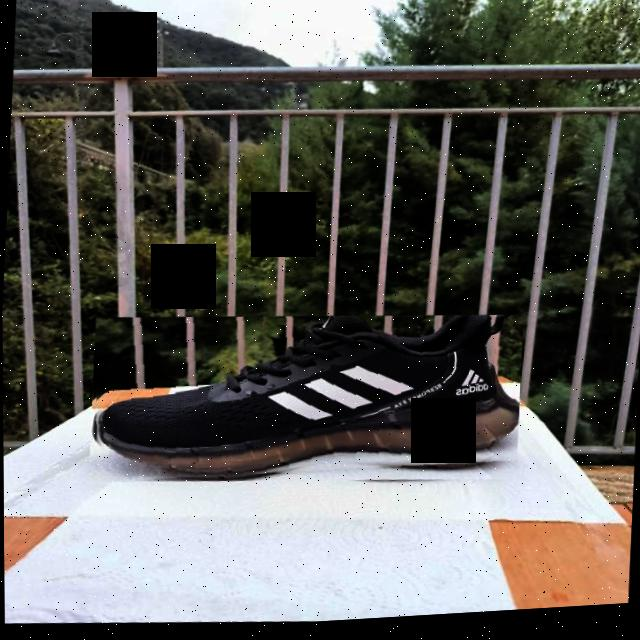shoe: (87, 299, 524, 505)
